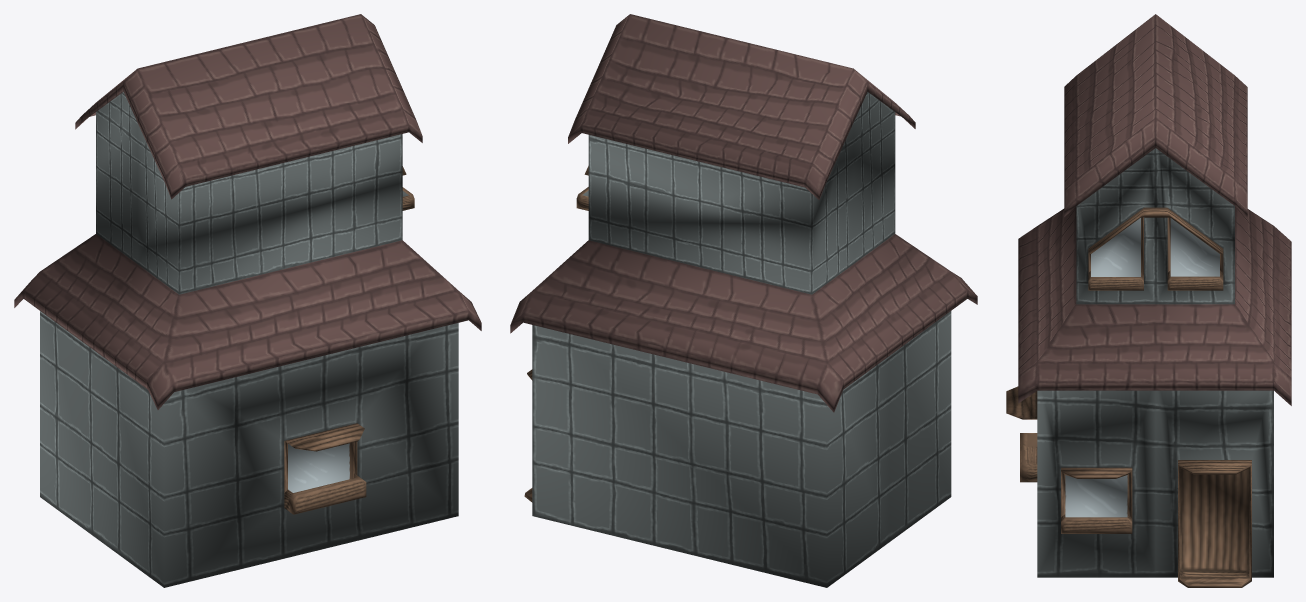
The model's file is Casa6.fbx.
The picture shows the model from 3 angles, left to right: view 1: azimuth 30°, elevation 25°; view 2: azimuth 150°, elevation 25°; view 3: azimuth 270°, elevation 25°; orthographic projection. The views are drawn at different scales.
Parts seen in each view (by area): view 1: Cube; view 2: Cube; view 3: Cube.
Part boxes in pixels (x1=…): Cube: x1=14, y1=14, x2=481, y2=587; Cube: x1=510, y1=14, x2=977, y2=587; Cube: x1=1006, y1=14, x2=1291, y2=587.
Size of the model in its own units: 3.12 by 4.13 by 2.41.
